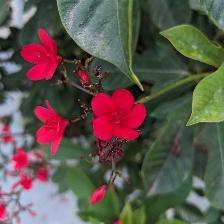jatropha: (90, 88, 148, 144), (20, 24, 62, 85), (34, 101, 73, 159)
